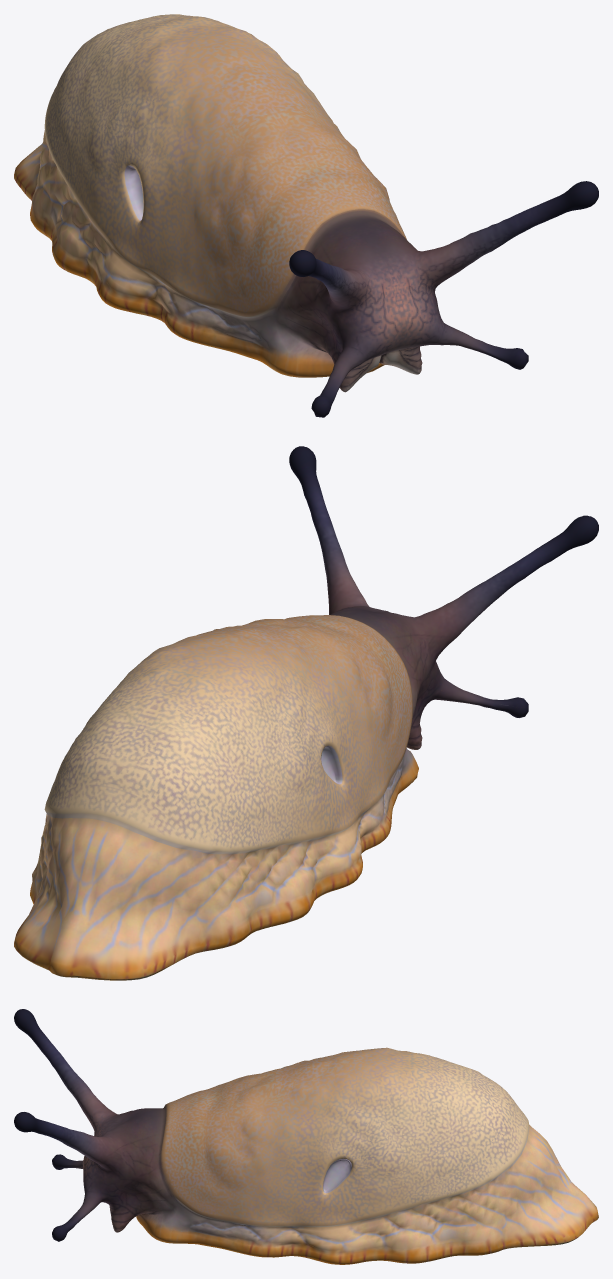
File: slimak.glb
3 renders of one model, top to bottom at view 1: azimuth 30°, elevation 25°; view 2: azimuth 150°, elevation 25°; view 3: azimuth 270°, elevation 25°, orthographic. The views are drawn at different scales.
Parts seen in each view (by area): view 1: Arion_Rufus_Phase4; view 2: Arion_Rufus_Phase4; view 3: Arion_Rufus_Phase4.
Boxes of the visible parts, x1,y1,x2,y2 form: Arion_Rufus_Phase4: (14,14,598,417); Arion_Rufus_Phase4: (14,446,598,980); Arion_Rufus_Phase4: (14,1009,598,1264).
Size of the model in its own units: 0.9026 by 0.6247 by 2.01.
1 material, 1 textured.
